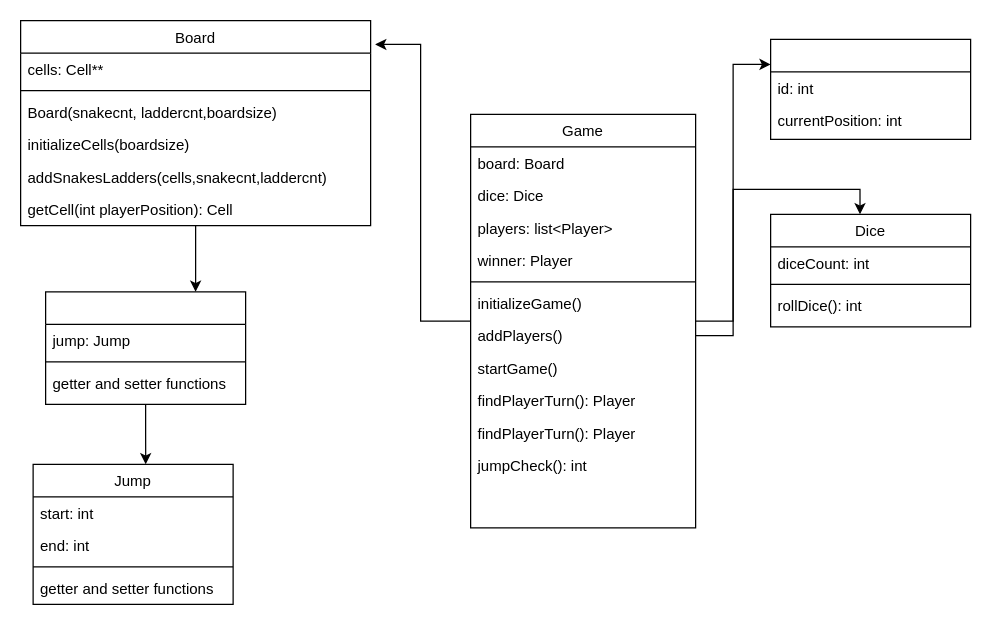
Some shapes in this 991 by 625 pixel diagram are drawn without their labels. Here are the shapes that lost their labels. From the top down, the box of each, then its label:
(769, 38, 971, 139): Player
(44, 291, 246, 404): Cell
